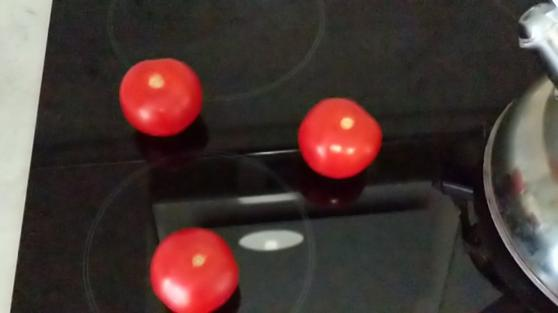tomato: (146, 220, 245, 313), (296, 92, 381, 181), (115, 55, 204, 140)
